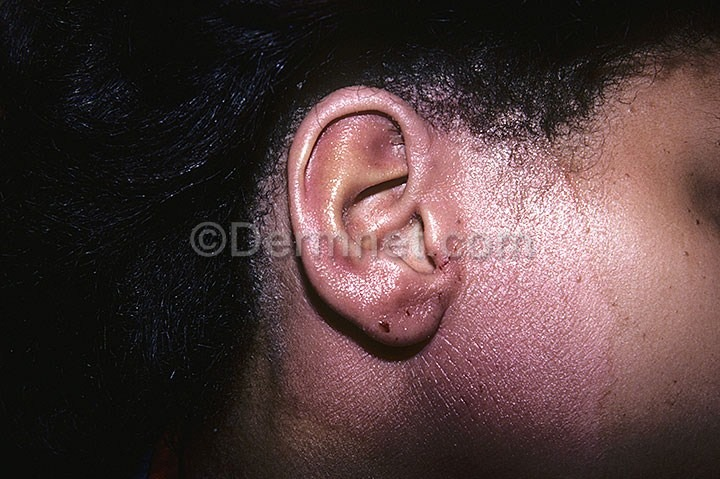Psoriasis: (425, 253, 639, 441)
